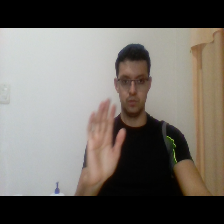left: (80, 94, 130, 186)
